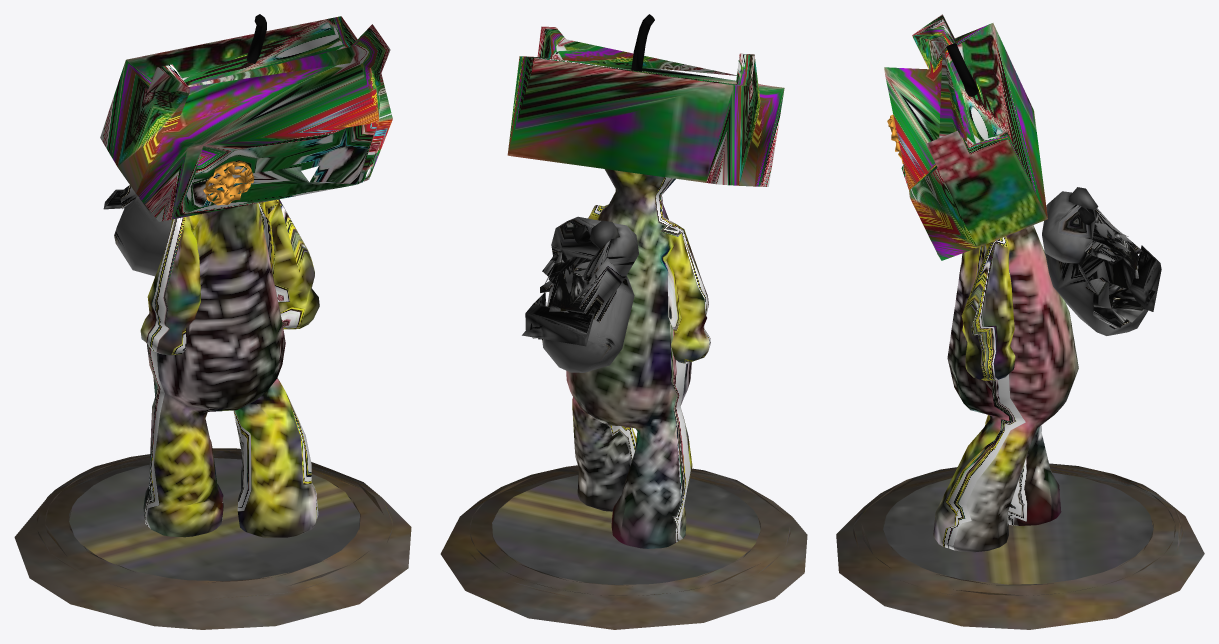
3 views of the same model, side by side, from view 1: azimuth 30°, elevation 25°; view 2: azimuth 150°, elevation 25°; view 3: azimuth 270°, elevation 25° (orthographic). The views are drawn at different scales.
Bounding box in the file's own units: 1.44 × 2.2 × 1.43.
7 materials, 6 textured.
